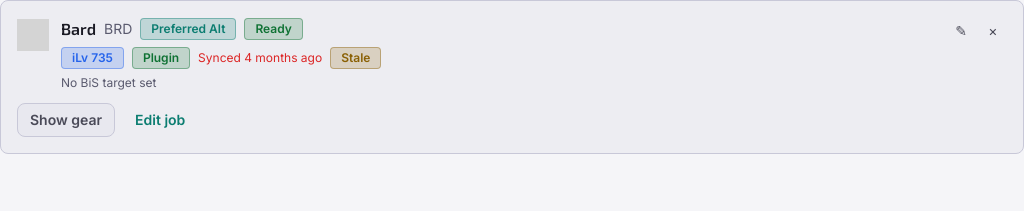
Test case: JobProfileCard › expands gear rows on "Show gear" click
Click the button "Show gear" at (66, 120), box 17,103 -> 115,137
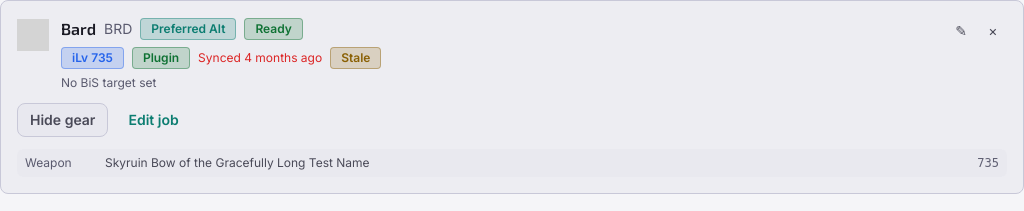
Check: the element with test id "gear-slots-BRD" is shown, box 17,149 -> 1007,177
